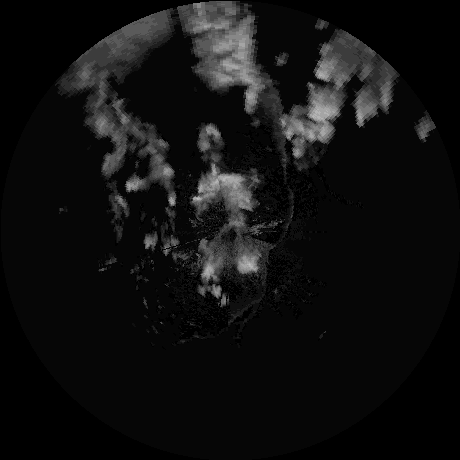frontgust: (227, 259, 269, 323), (273, 187, 295, 244)
